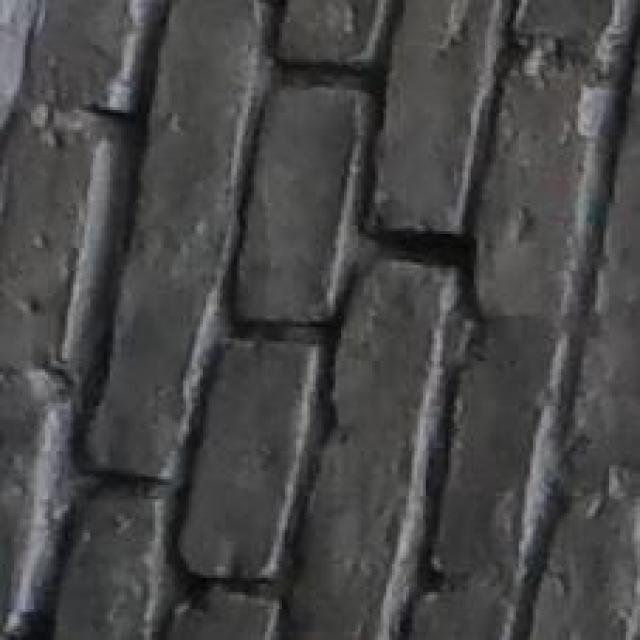Crack: (59, 4, 511, 640)
